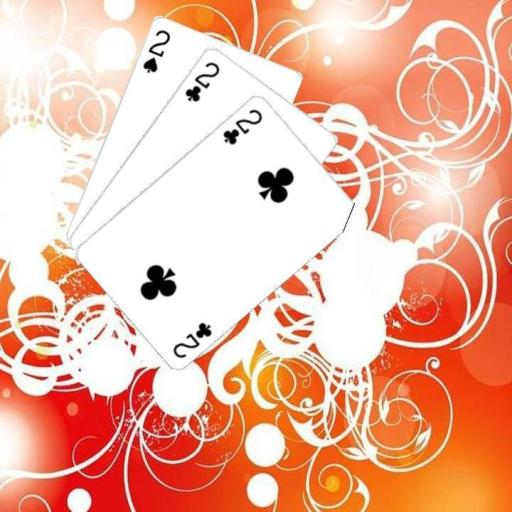card-corner: (169, 318, 214, 360), (181, 58, 221, 103), (220, 106, 264, 146), (139, 26, 172, 74)
